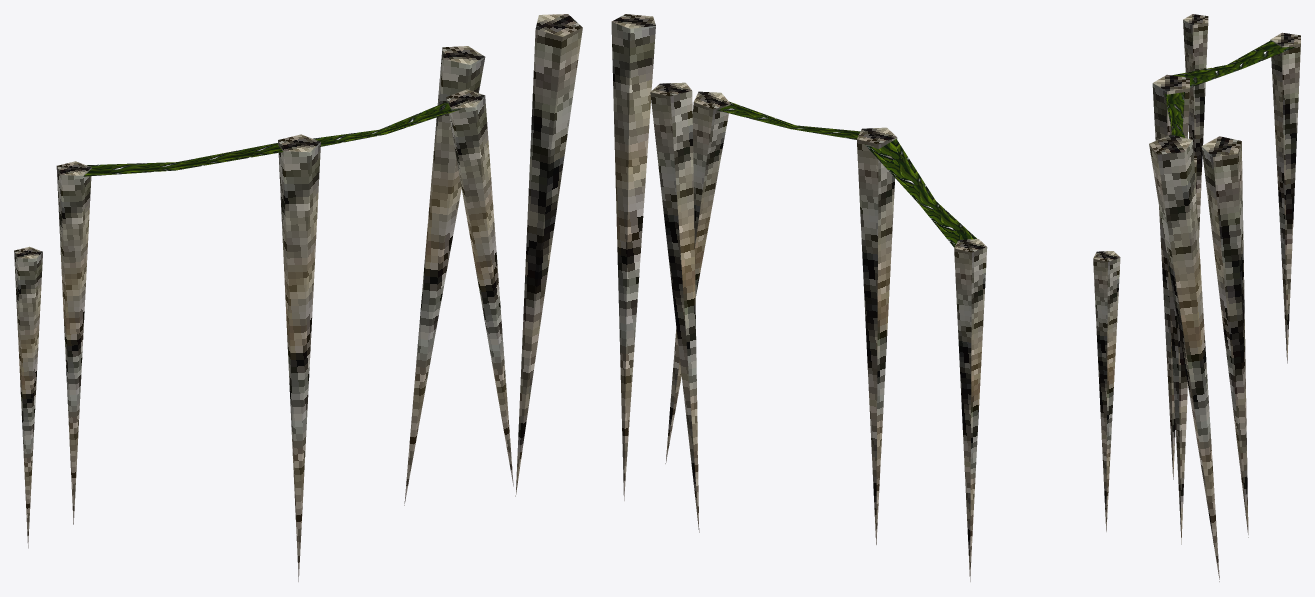
The model's file is beach-_Stalagtites0 (1).fbx.
3 views of the same model, side by side, from view 1: azimuth 30°, elevation 25°; view 2: azimuth 150°, elevation 25°; view 3: azimuth 270°, elevation 25° (orthographic). The views are drawn at different scales.
Parts seen in each view (by area): view 1: stalagtite.005, stalagtite.003, stalagtite.006, stalagtite.004, stalagtite.002, stalagtite.001, seaweed0, seaweed1; view 2: stalagtite.005, stalagtite.006, stalagtite.003, stalagtite.002, stalagtite.004, stalagtite.001, seaweed0, seaweed1; view 3: stalagtite.005, stalagtite.006, stalagtite.002, stalagtite.003, stalagtite.001, stalagtite.004, seaweed0, seaweed1.
Part boxes in pixels (box(x1,y1,x2,y2)): stalagtite.005: box(515, 14, 582, 496); stalagtite.003: box(278, 134, 320, 581); stalagtite.006: box(404, 46, 485, 505); stalagtite.004: box(446, 89, 513, 486); stalagtite.002: box(56, 161, 91, 524); stalagtite.001: box(14, 246, 42, 548); seaweed0: box(83, 143, 282, 176); seaweed1: box(313, 102, 460, 146); stalagtite.005: box(611, 14, 655, 500); stalagtite.006: box(650, 82, 699, 532); stalagtite.003: box(856, 127, 897, 544); stalagtite.002: box(954, 239, 987, 581); stalagtite.004: box(665, 91, 730, 463); stalagtite.001: box(1093, 251, 1120, 531); seaweed0: box(865, 139, 976, 247); seaweed1: box(717, 101, 860, 139); stalagtite.005: box(1149, 134, 1219, 581); stalagtite.006: box(1201, 136, 1248, 537); stalagtite.002: box(1270, 32, 1300, 363); stalagtite.003: box(1152, 74, 1189, 479); stalagtite.001: box(1183, 14, 1208, 237); stalagtite.004: box(1167, 155, 1196, 544); seaweed0: box(1172, 40, 1295, 87); seaweed1: box(1164, 92, 1185, 137).
Size of the model in its own units: 2.46 by 0.6518 by 2.15.
Materials: 2 (2 with a texture image).
